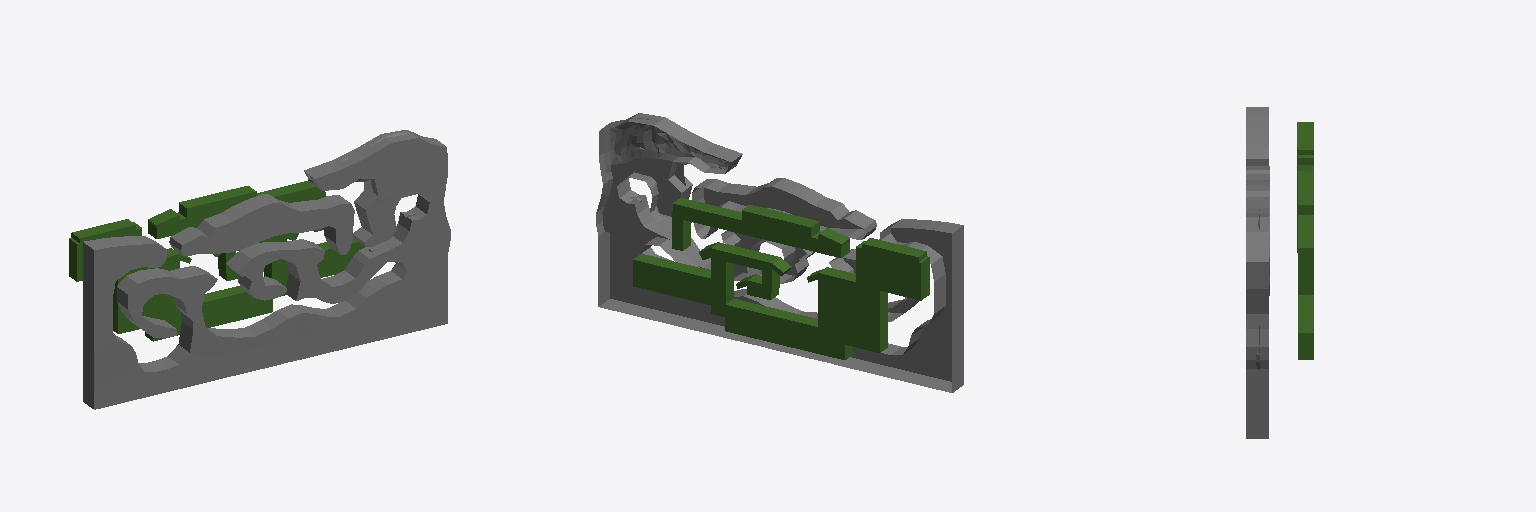
File: jungle_terrain_001.obj
The picture shows the model from 3 angles: view 1: azimuth 30°, elevation 25°; view 2: azimuth 150°, elevation 25°; view 3: azimuth 270°, elevation 25°; orthographic projection.
Parts seen in each view (by area): view 1: pPlane2, jungle_ground:Ground jungle_ground:set1 jungle_ground:polySurfac; view 2: pPlane2, jungle_ground:Ground jungle_ground:set1 jungle_ground:polySurfac, pCube1, jungle_ground:Ground jungle_ground:set1 polySurface1 jungle_grou; view 3: pPlane2, jungle_ground:Ground jungle_ground:set1 jungle_ground:polySurfac.
Boxes of the visible parts, box(x1,y1,x2,y2) form: pPlane2: box(83, 130, 450, 409); jungle_ground:Ground jungle_ground:set1 jungle_ground:polySurfac: box(69, 181, 364, 341); pPlane2: box(596, 113, 963, 392); jungle_ground:Ground jungle_ground:set1 jungle_ground:polySurfac: box(633, 198, 929, 359); pCube1: box(601, 118, 735, 239); jungle_ground:Ground jungle_ground:set1 polySurface1 jungle_grou: box(725, 305, 844, 359); pPlane2: box(1246, 107, 1269, 438); jungle_ground:Ground jungle_ground:set1 jungle_ground:polySurfac: box(1297, 122, 1313, 359).
Size of the model in its own units: 175 by 91.7 by 29.13.